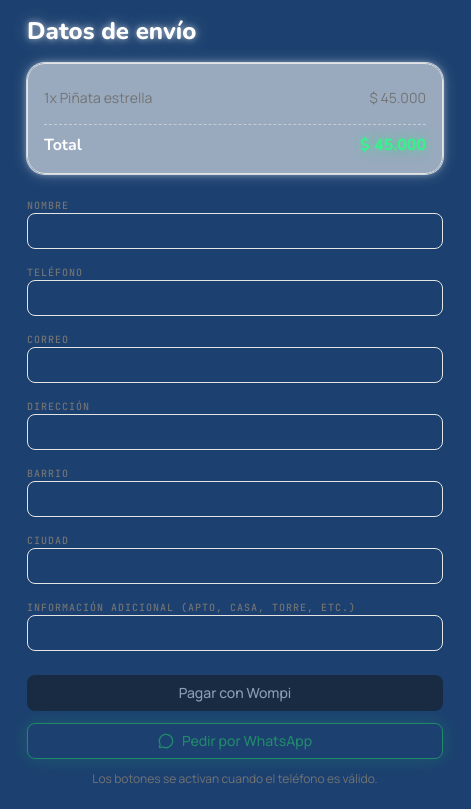
Test: CheckoutPage › disables the WhatsApp button and shows an error while the phone is malformed
Step 1. Type "Ana" into the field labelled "Nombre" → coordinates (235, 231), box [27,213,443,249]
Step 2. Type "123" into the field labelled "Teléfono" → coordinates (235, 298), box [27,280,443,316]
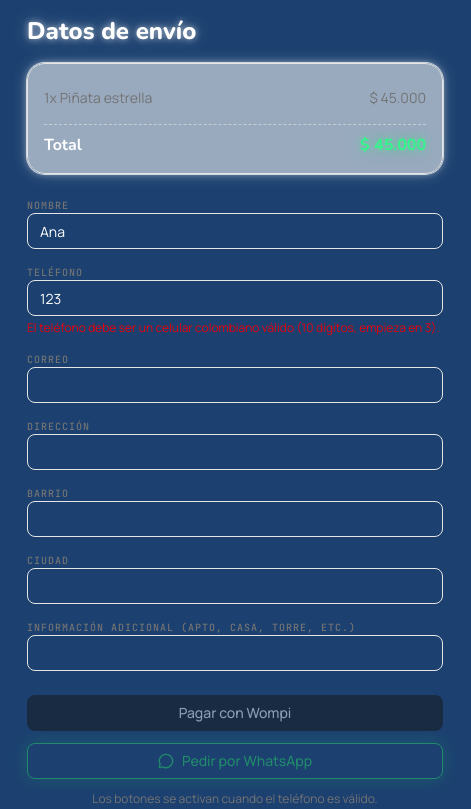
Step 3. Type "ana@example.com" into the field labelled "Correo" → coordinates (235, 385), box [27,367,443,403]
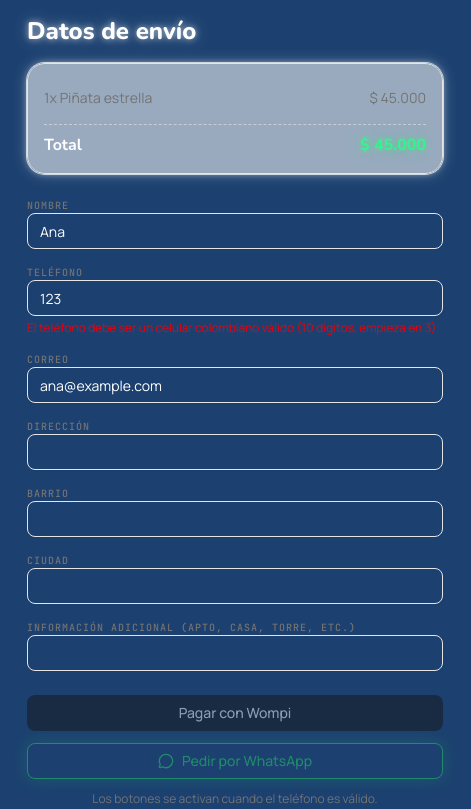
Step 4. Type "Calle 1" into the field labelled "Dirección" → coordinates (235, 452), box [27,434,443,470]
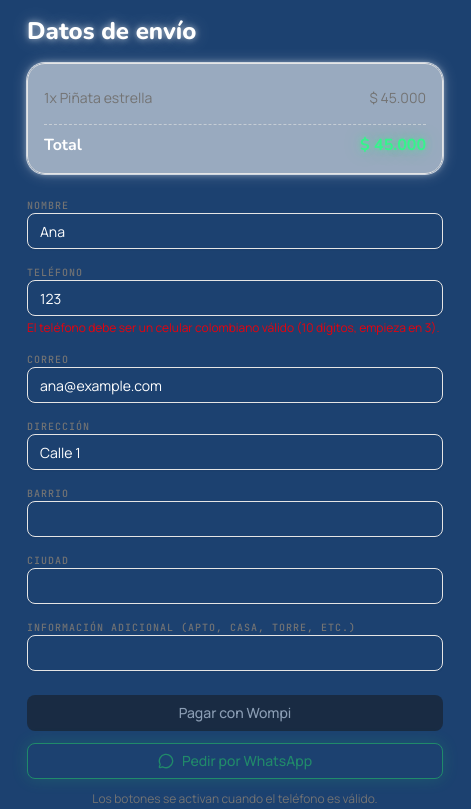
Step 5. Type "Chapinero" into the field labelled "Barrio" → coordinates (235, 519), box [27,501,443,537]
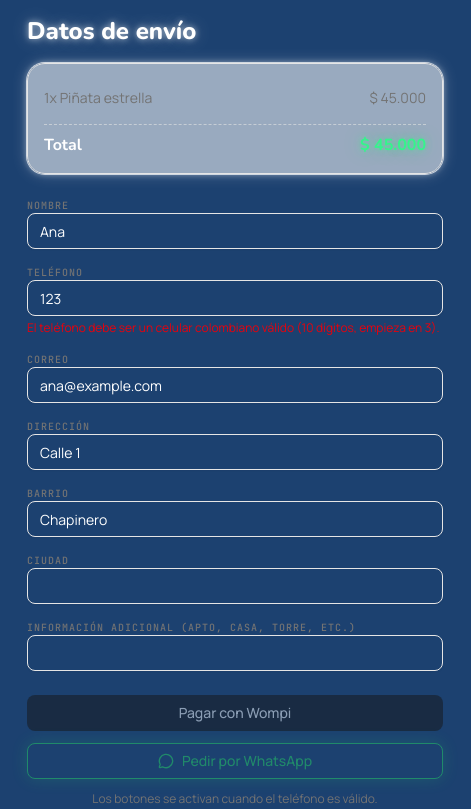
Step 6. Type "Bogotá" into the field labelled "Ciudad" → coordinates (235, 586), box [27,568,443,604]
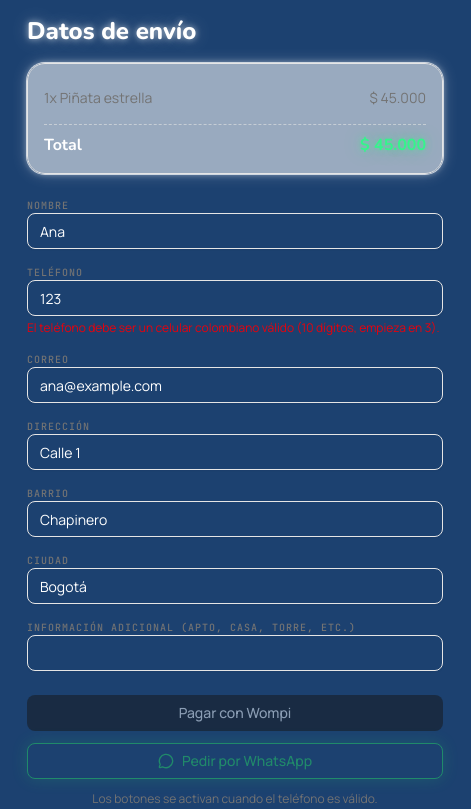
Expected: the button "Pedir por WhatsApp" is disabled, [27,743,443,779]
Expected: the text "celular colombiano válido" is shown, [27,319,440,336]
Step 7. Replace the text in the field labelled "Teléfono" with "3001234567" → coordinates (235, 298), box [27,280,443,316]
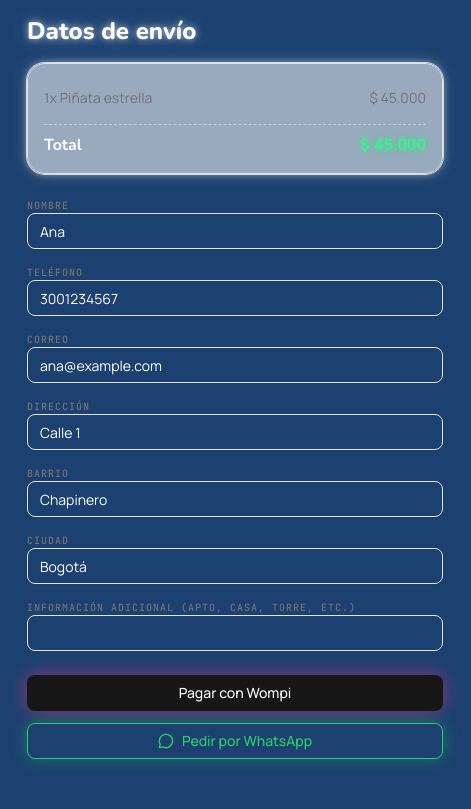
Expected: the text "celular colombiano válido" is gone
Expected: the button "Pedir por WhatsApp" is enabled, [27,723,443,759]
